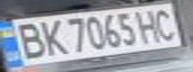0: (84, 12, 106, 51)
5: (115, 9, 142, 46)
6: (103, 11, 124, 48)
7: (63, 15, 87, 53)
B: (6, 20, 51, 61)
C: (148, 6, 181, 42)
H: (133, 7, 166, 44)
K: (33, 17, 69, 56)
